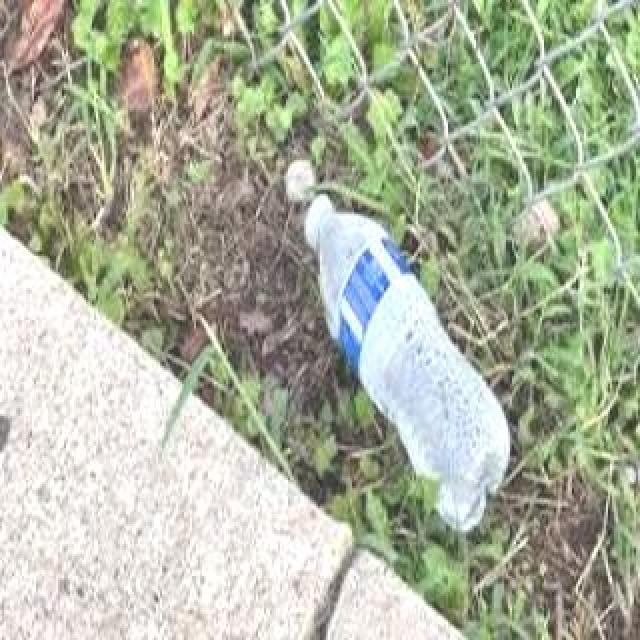Pet_Bottle: (300, 191, 508, 531)
